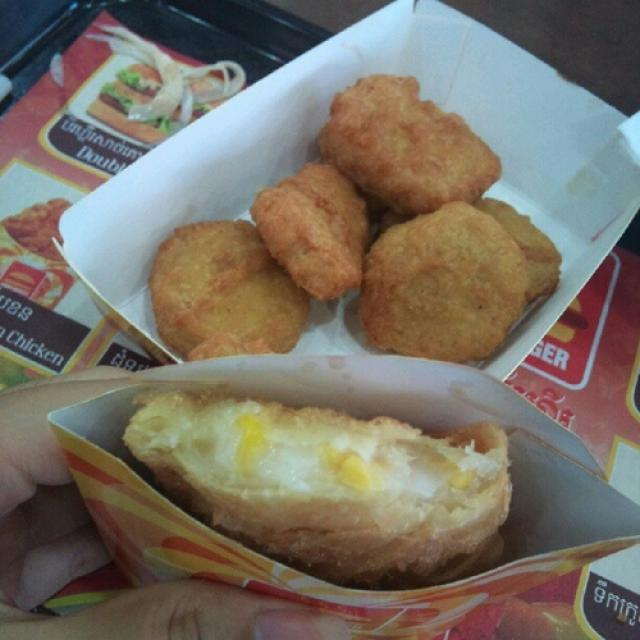鸡肉料理 含炸鸡: (51, 21, 595, 432)
